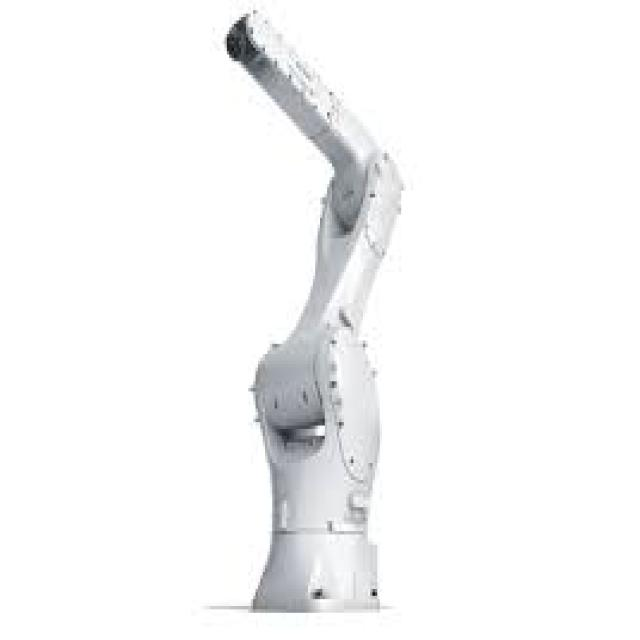Robotic-arm: (216, 3, 406, 620)
